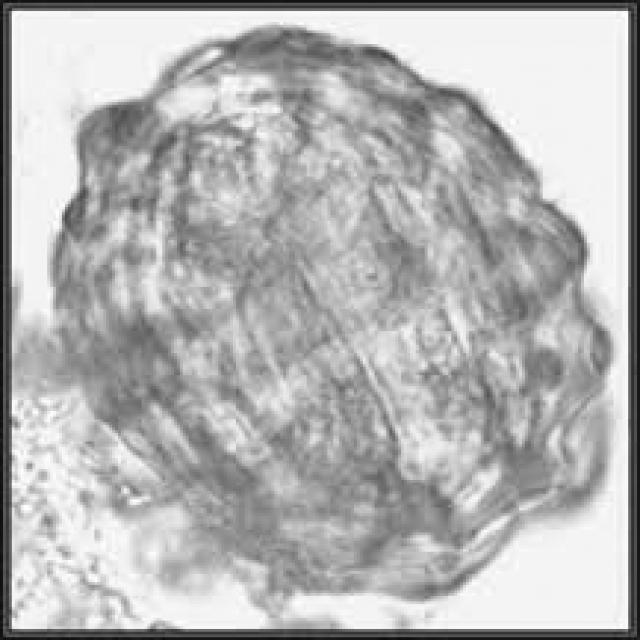Ascaris Lumbricoides: (34, 15, 618, 608)
